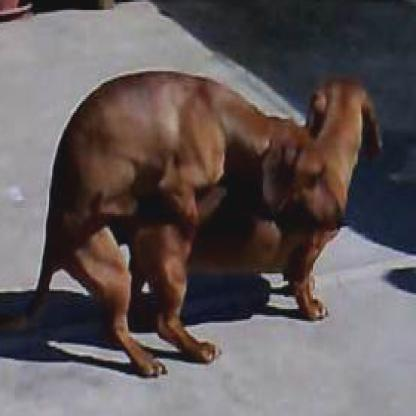dog: (0, 71, 348, 380), (137, 78, 383, 364)
